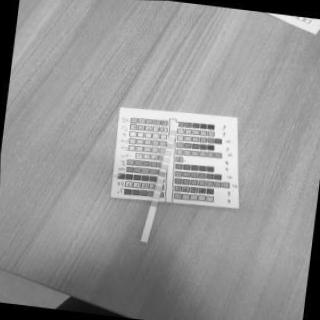mark: (150, 201, 156, 207), (159, 171, 165, 177), (161, 164, 167, 169), (168, 143, 174, 148), (172, 122, 178, 127), (154, 193, 158, 199), (155, 186, 161, 190), (156, 178, 162, 182), (162, 156, 168, 160), (164, 150, 170, 154), (168, 137, 174, 141), (170, 130, 176, 134)
